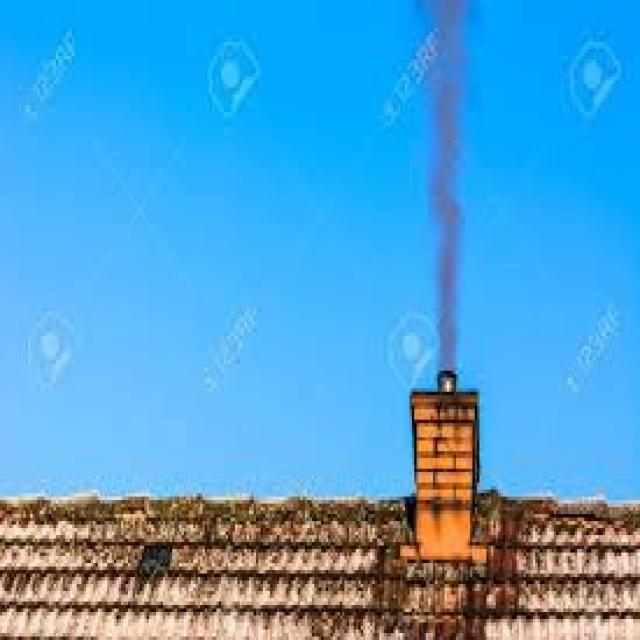Smoke: (412, 0, 482, 374)
